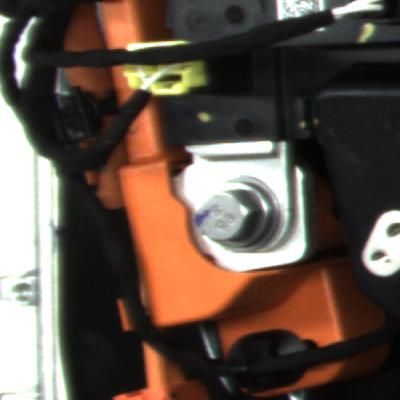nut_b: (182, 169, 288, 262)
